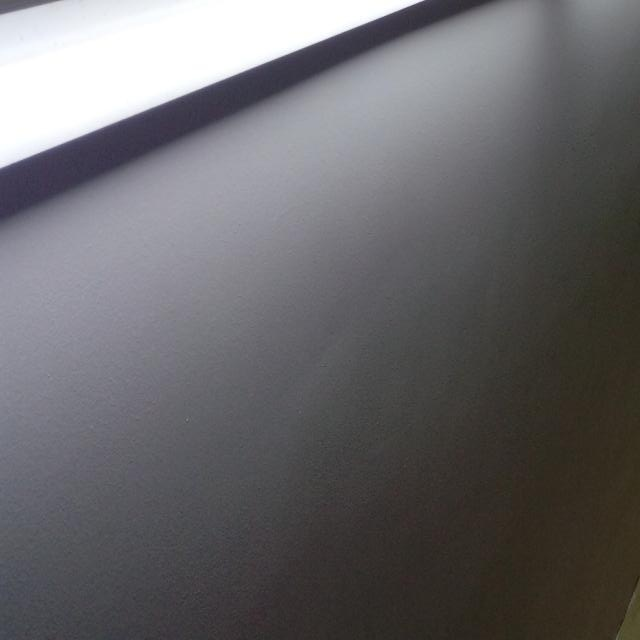fluorescent tube: (0, 0, 617, 177)
